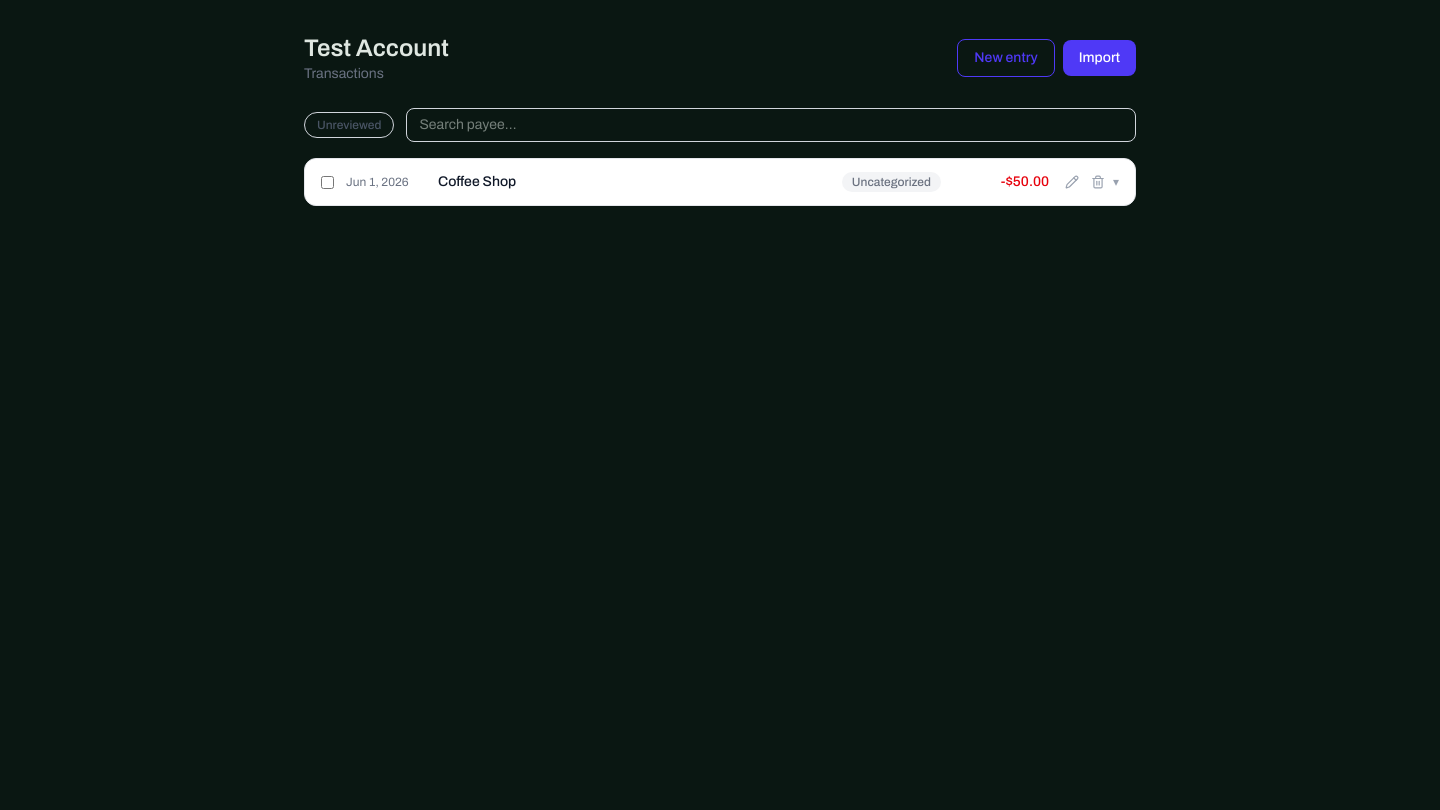
it: Transactions — add/edit modals › opens EditTransactionModal when pencil icon is clicked
Click the button titled "edit transaction": (1072, 182) [1061, 171, 1083, 193]
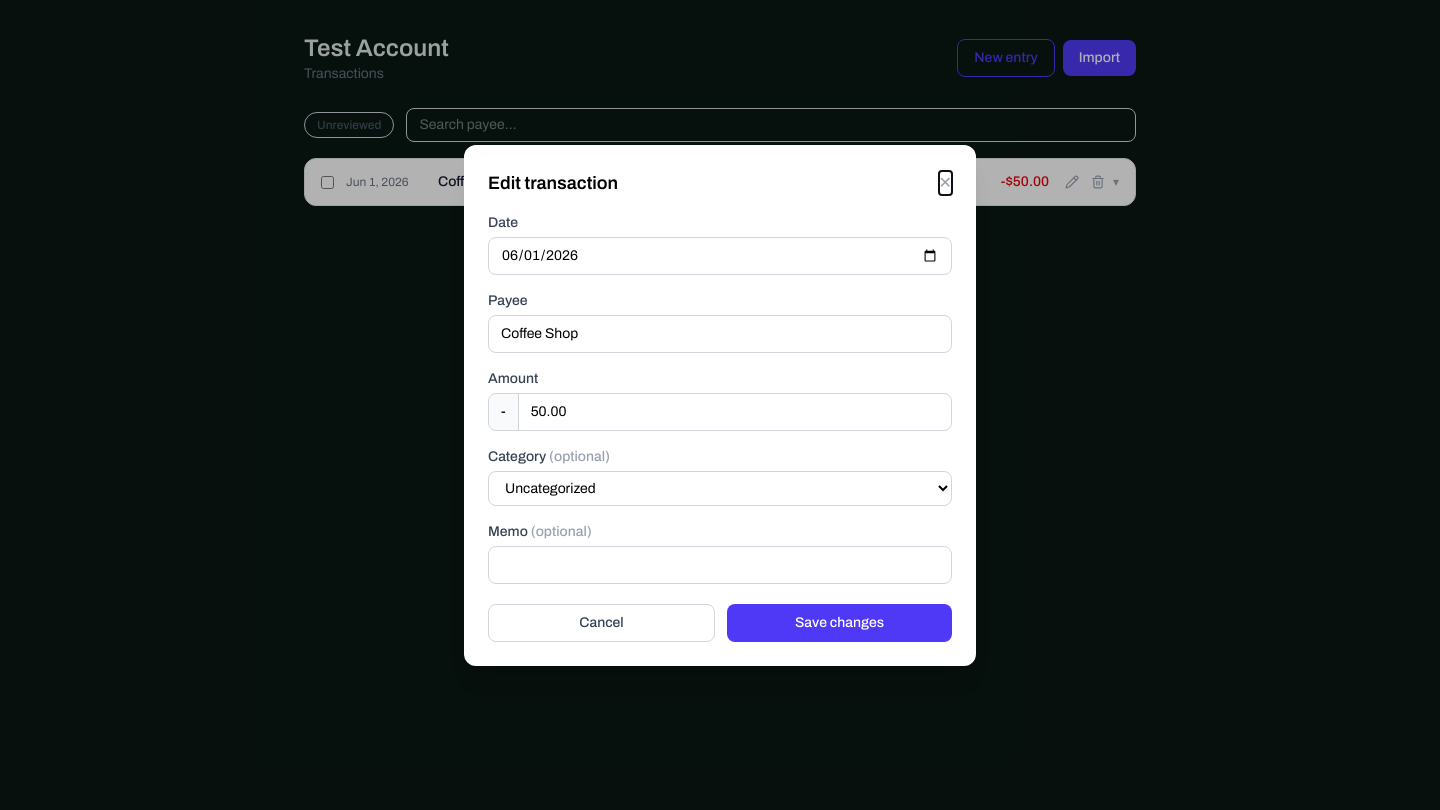
Expected: the heading "Edit transaction" is shown, [488, 168, 618, 196]
